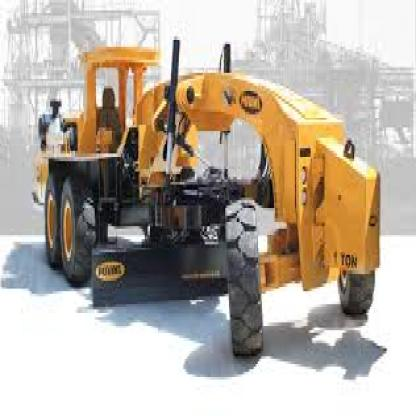bull_dozer/loader/grader: (27, 44, 392, 364)
